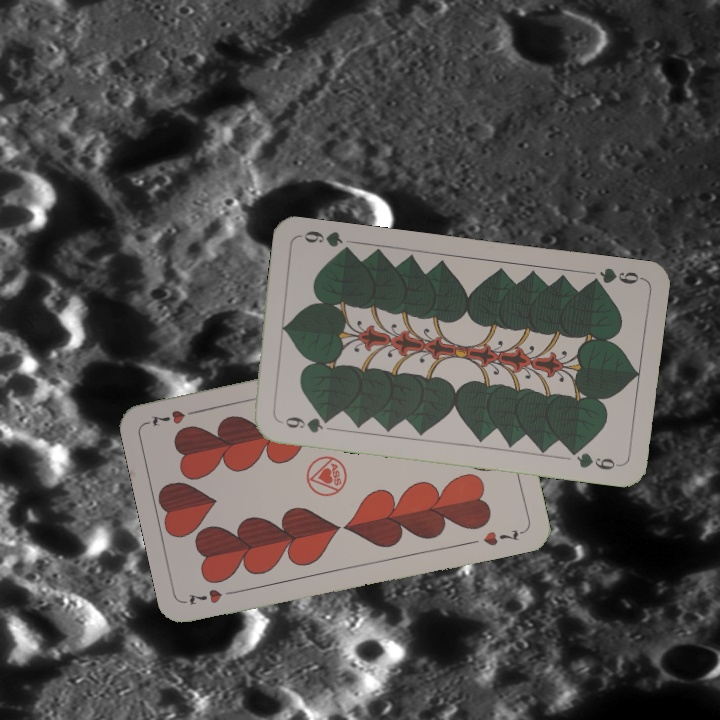G9: (584, 263, 644, 289), (274, 412, 334, 435)
H7: (182, 585, 241, 608)
